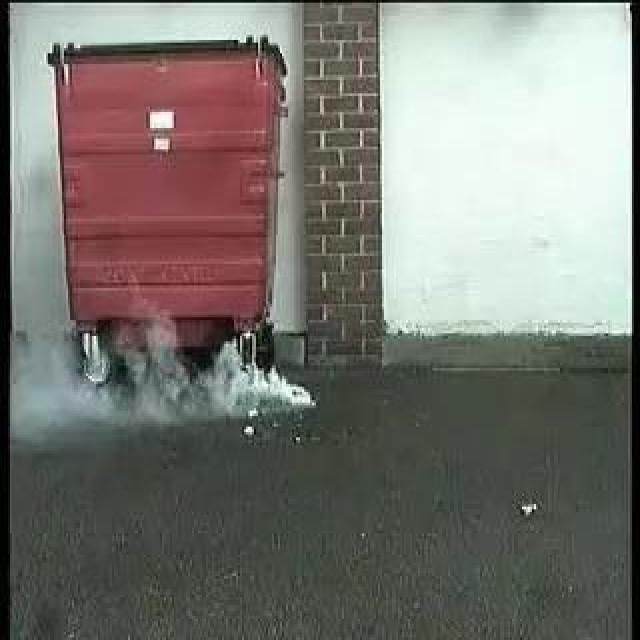Smoke: (39, 315, 317, 429)
